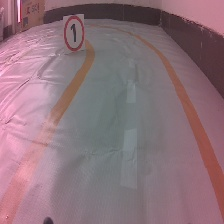limit: (61, 12, 87, 55)
